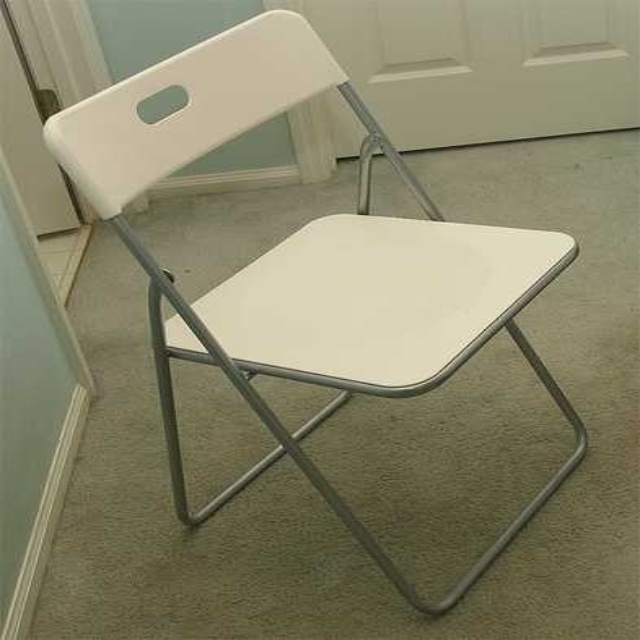obstacle: (44, 10, 586, 614)
